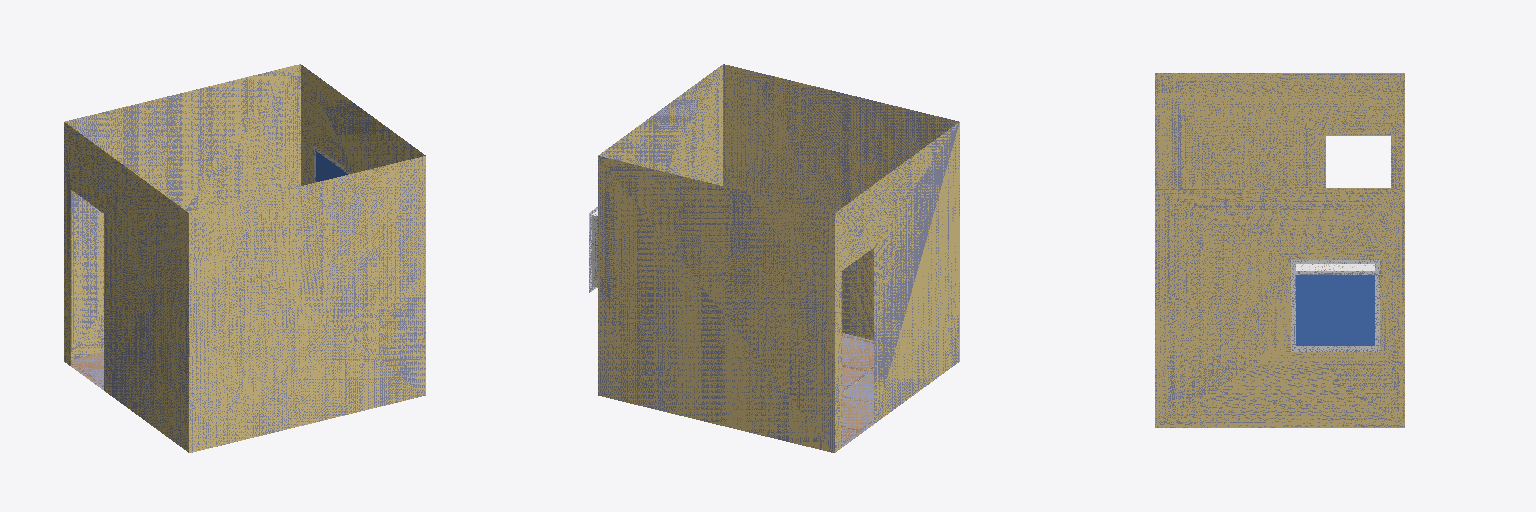
3 renders of one model, left to right at view 1: azimuth 30°, elevation 25°; view 2: azimuth 150°, elevation 25°; view 3: azimuth 270°, elevation 25°, orthographic.
Parts seen in each view (by area): view 1: Mesh5 DES011 Model, Mesh1 Group1 DES011 Model; view 2: Mesh5 DES011 Model, Mesh1 Group1 DES011 Model; view 3: Mesh5 DES011 Model, Mesh1 Group1 DES011 Model.
Part boxes in pixels (x1,y1,x2,y2): Mesh5 DES011 Model: (64, 64, 425, 452); Mesh1 Group1 DES011 Model: (314, 146, 351, 182); Mesh5 DES011 Model: (598, 64, 959, 452); Mesh1 Group1 DES011 Model: (589, 207, 597, 292); Mesh5 DES011 Model: (1155, 73, 1404, 427); Mesh1 Group1 DES011 Model: (1291, 260, 1379, 351).
Bounding box in the file's own units: 3.38 × 3 × 2.84.
Materials: 6 (2 with a texture image).